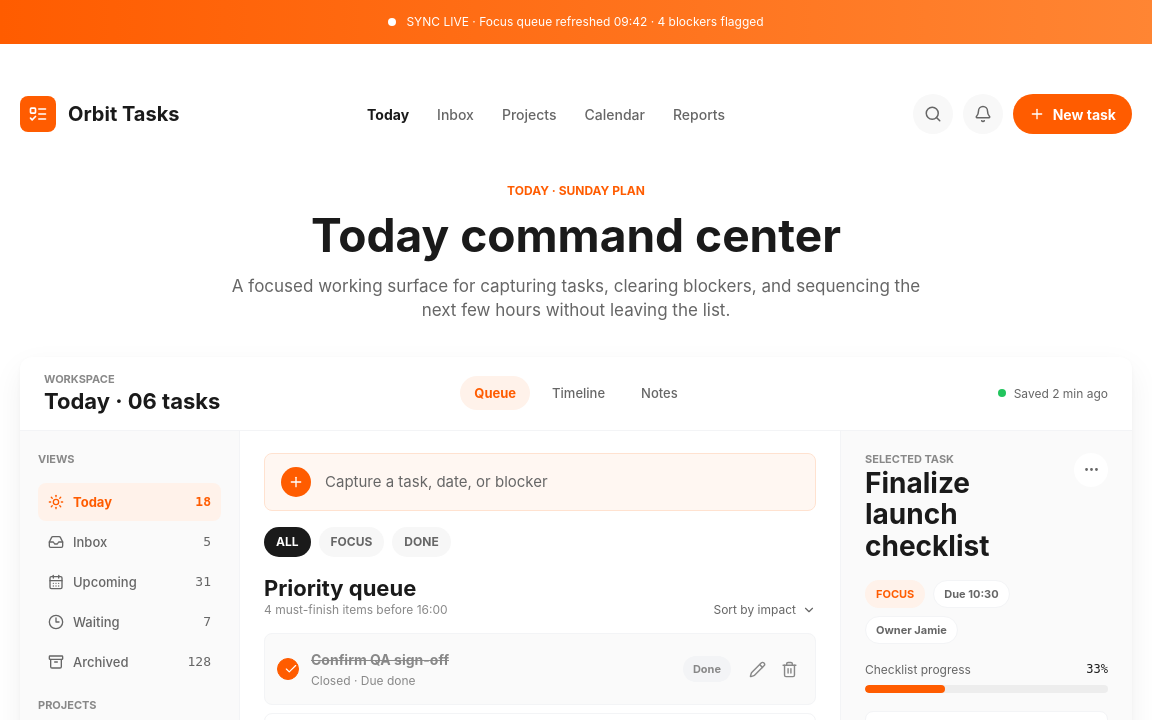
Test: App › adds a new task
This screenshot has width=1152, height=720.
Type "Prepare weekly review" into the field named "New task" at (561, 482), box [323,471,799,492]
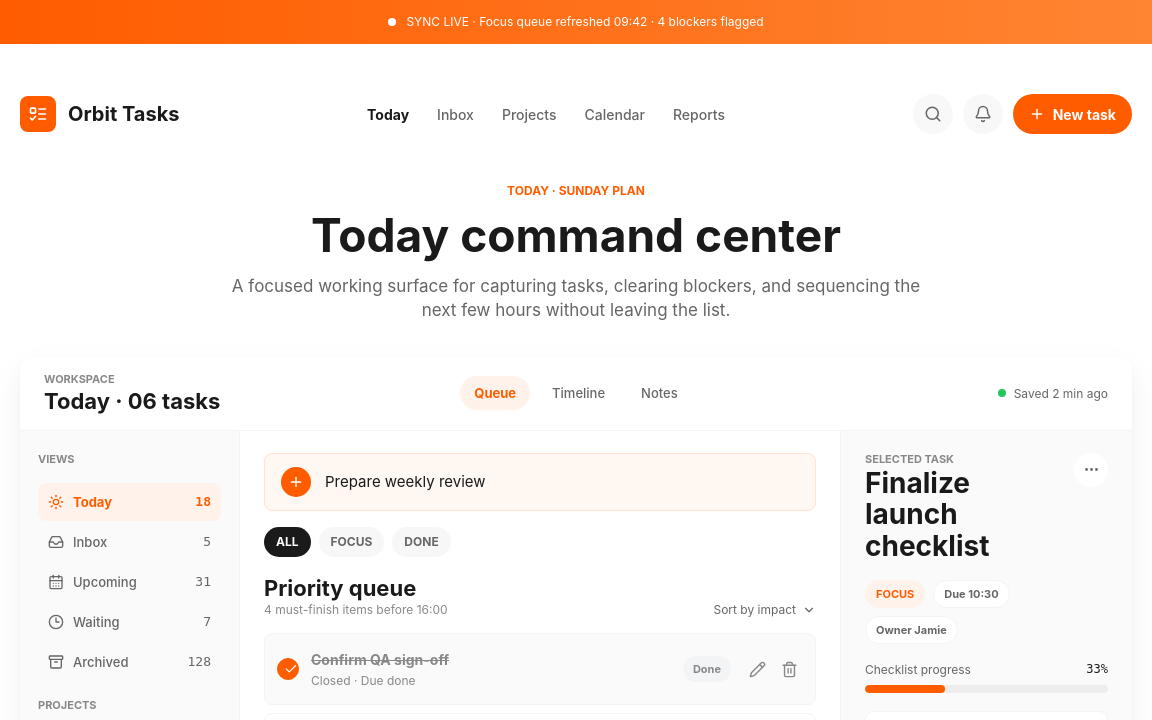
Press Enter
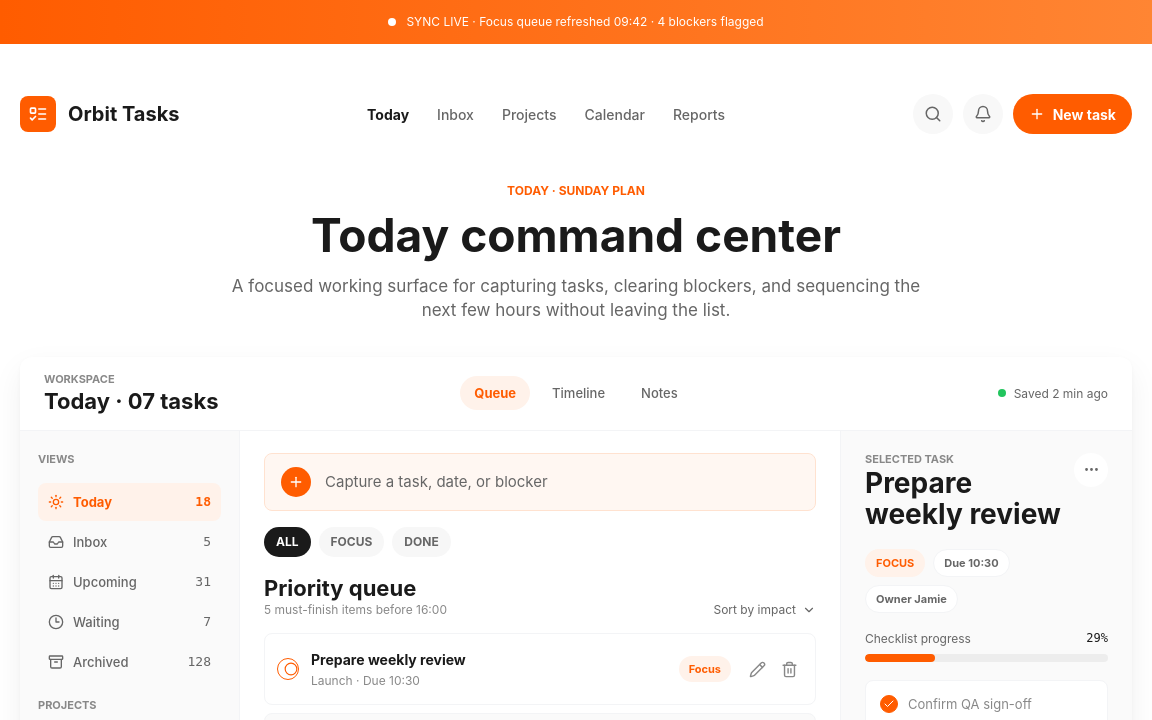
Expected: the heading "Prepare weekly review" below "must-finish items before 16:00" is shown, [311,651,466,668]
